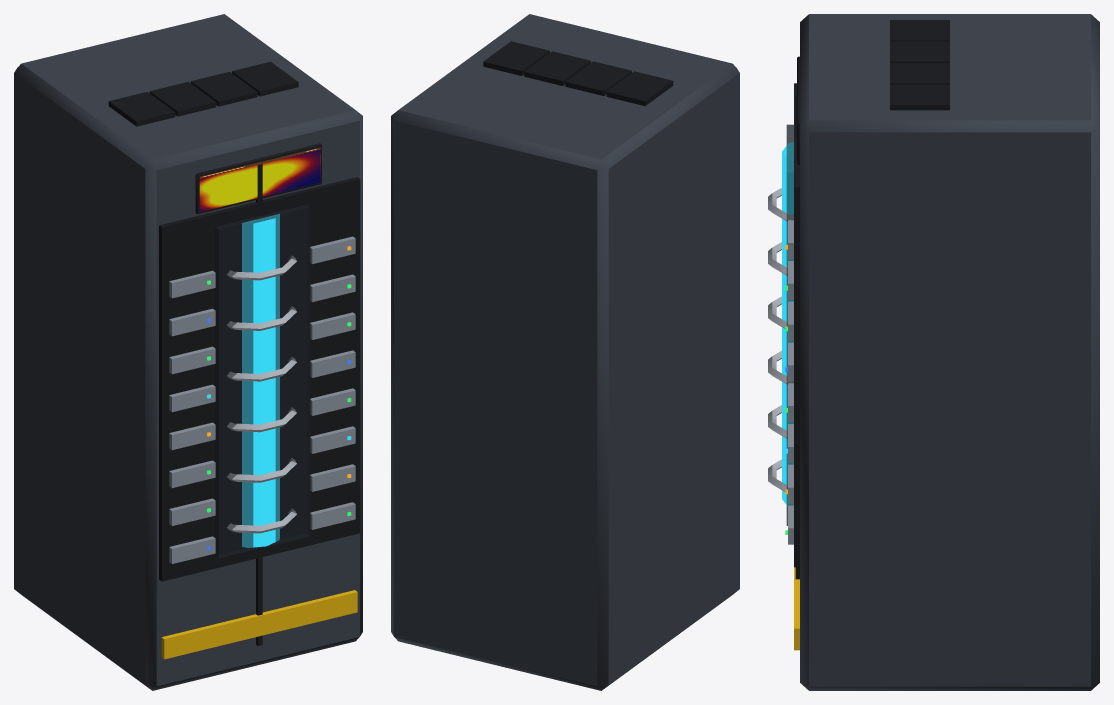
File: rack_computer_core_cabinet.glb
3 views of the same model, side by side, from view 1: azimuth 30°, elevation 25°; view 2: azimuth 150°, elevation 25°; view 3: azimuth 270°, elevation 25° (orthographic). The views are drawn at different scales.
Parts seen in each view (by area): view 1: rack_computer_core_cabinet; view 2: rack_computer_core_cabinet; view 3: rack_computer_core_cabinet.
Part boxes in pixels (bbox=[...]): rack_computer_core_cabinet: bbox=[14, 14, 362, 690]; rack_computer_core_cabinet: bbox=[391, 14, 739, 690]; rack_computer_core_cabinet: bbox=[768, 14, 1099, 690].
Bounding box in the file's own units: 0.9 × 2.12 × 1.11.
11 materials, 1 textured.
